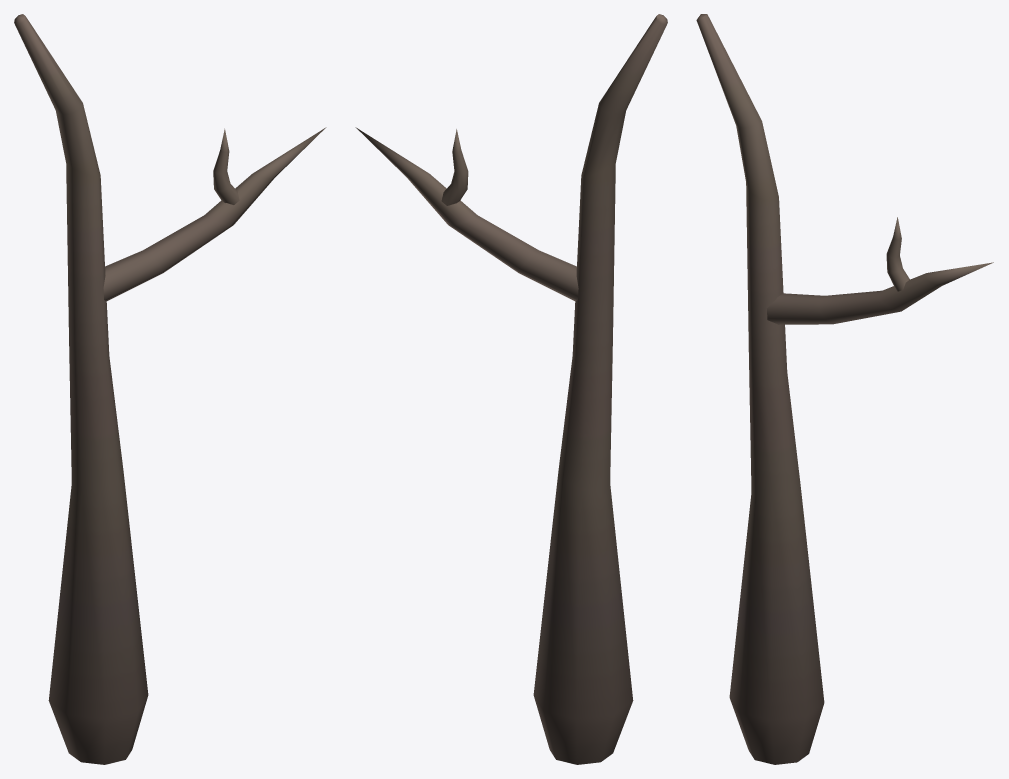
Rendered from tree-dead-m.glb.
The picture shows the model from 3 angles, left to right: view 1: azimuth 30°, elevation 25°; view 2: azimuth 150°, elevation 25°; view 3: azimuth 330°, elevation 25°; orthographic projection. The views are drawn at different scales.
Visible parts, largest first — view 1: tree_dead_medium; view 2: tree_dead_medium; view 3: tree_dead_medium.
Part boxes in pixels (bbox=[...]): tree_dead_medium: bbox=[14, 14, 326, 764]; tree_dead_medium: bbox=[355, 14, 667, 764]; tree_dead_medium: bbox=[696, 14, 993, 764].
Bounding box in the file's own units: 1.81 × 4.19 × 0.4667.
Materials: 1 (1 with a texture image).
